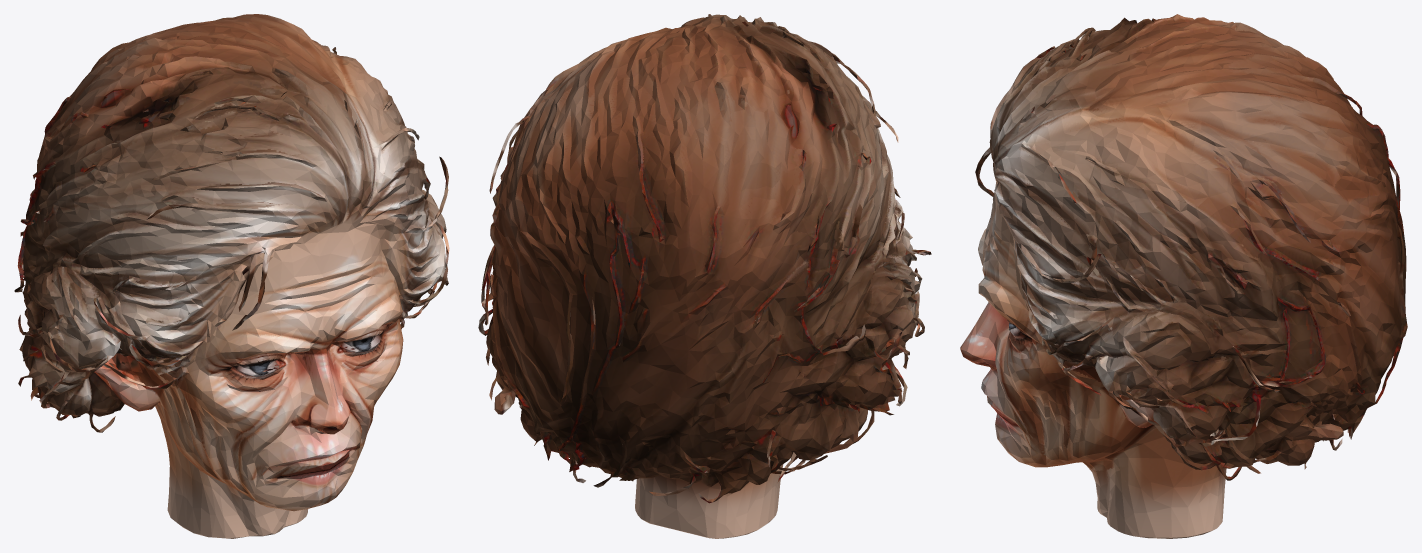
File: side_oldwoman_repaired_atlas.glb
3 views of the same model, side by side, from view 1: azimuth 30°, elevation 25°; view 2: azimuth 150°, elevation 25°; view 3: azimuth 270°, elevation 25° (orthographic).
Parts seen in each view (by area): view 1: temp_mesh.ply; view 2: temp_mesh.ply; view 3: temp_mesh.ply.
Part boxes in pixels (left/top/right/bottom): temp_mesh.ply: left=14, top=14, right=449, bottom=538; temp_mesh.ply: left=478, top=14, right=931, bottom=538; temp_mesh.ply: left=960, top=14, right=1407, bottom=538.
Bounding box in the file's own units: 1.8 × 1.97 × 1.7.
1 material, 1 textured.
